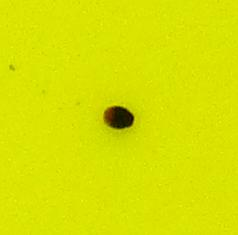Coleoptera: (100, 100, 138, 135)
